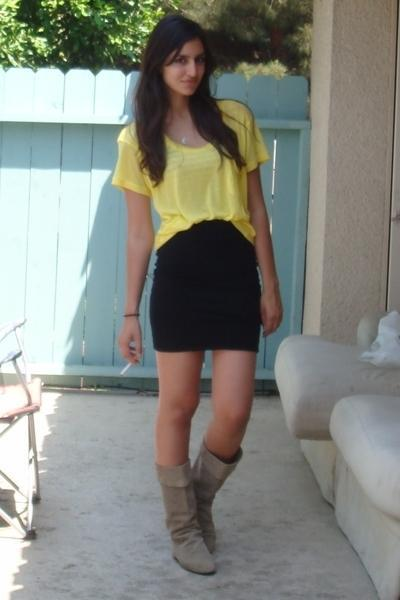shirt: (117, 100, 266, 248)
shoe: (155, 444, 242, 576)
skirt: (150, 219, 262, 359)
